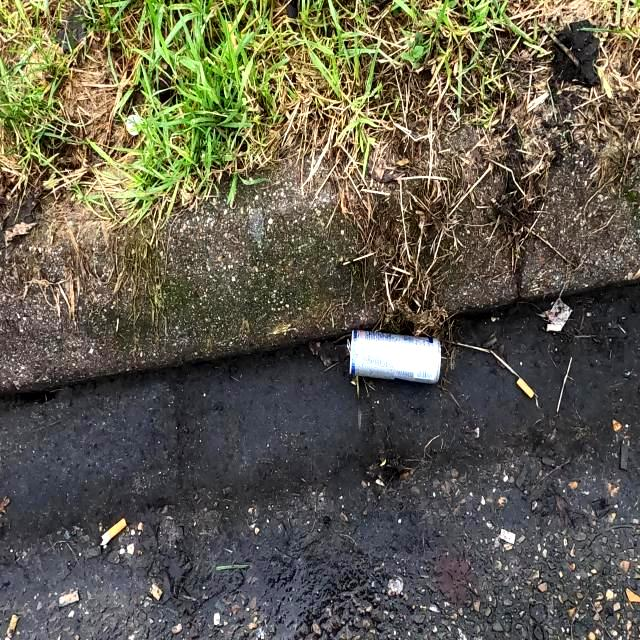Metal: (346, 327, 442, 385)
